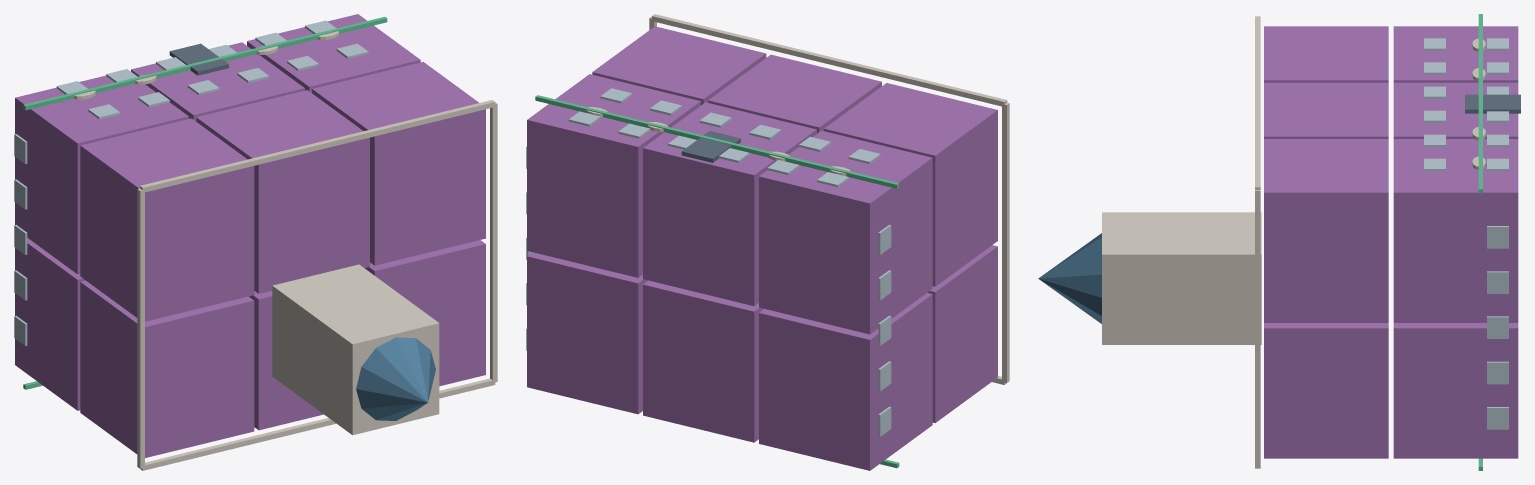
The model's file is building-university.glb.
The picture shows the model from 3 angles, left to right: view 1: azimuth 30°, elevation 25°; view 2: azimuth 150°, elevation 25°; view 3: azimuth 270°, elevation 25°; orthographic projection.
Parts seen in each view (by area): view 1: world; view 2: world; view 3: world.
Boxes of the visible parts, left/top/right/bottom form: world: left=14, top=14, right=497, bottom=470; world: left=526, top=14, right=1009, bottom=470; world: left=1038, top=14, right=1520, bottom=470.
Bounding box in the file's own units: 20.8 × 15.58 × 24.2.
